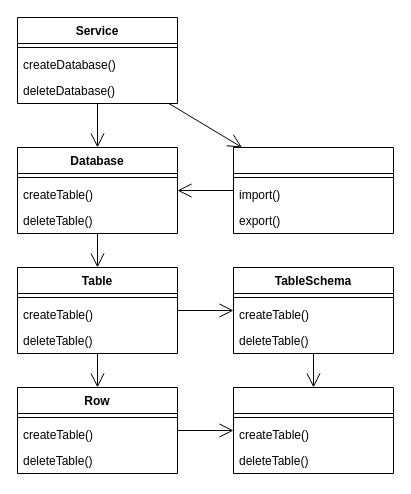
The diagram is 411 pixels wide and 494 high, and some of its shapes have lost their labels. The box of each missing label's shape, as (x1, y1, x2, y2) in pixels:
DatabaseCode: (232, 146, 394, 234)
DataType: (232, 386, 394, 474)
